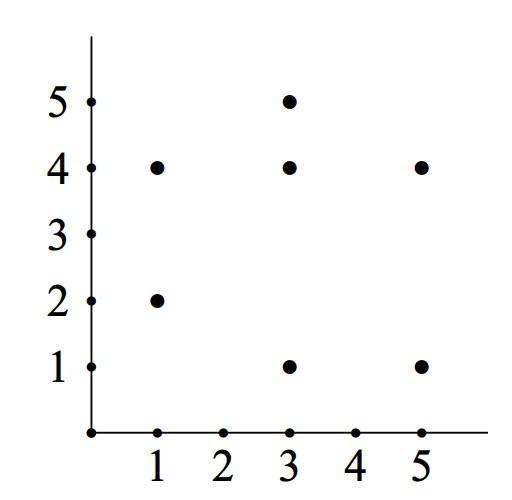axis: (83, 421, 490, 441), (84, 34, 100, 440)
point: (275, 156, 305, 182), (277, 355, 307, 380), (144, 154, 171, 181), (143, 288, 171, 313), (278, 89, 306, 113), (409, 358, 439, 379), (411, 158, 432, 177)
